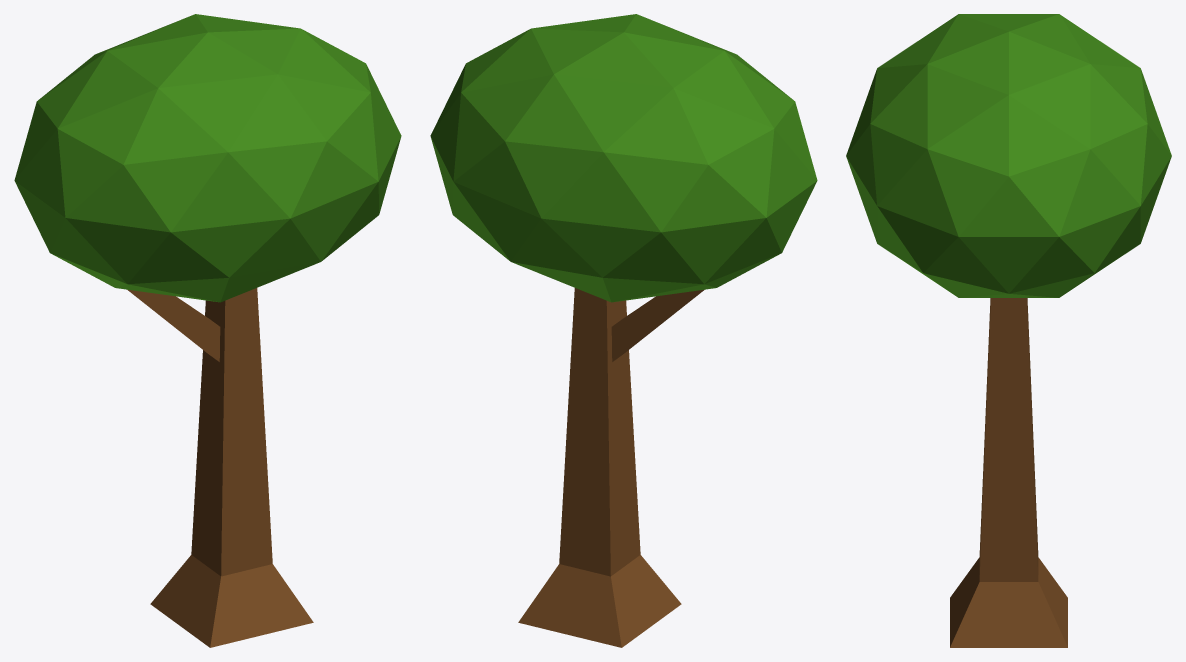
Rendered from tree.fbx.
The picture shows the model from 3 angles, left to right: view 1: azimuth 30°, elevation 25°; view 2: azimuth 150°, elevation 25°; view 3: azimuth 270°, elevation 25°; orthographic projection.
Visible parts, largest first — view 1: Icosphere; view 2: Icosphere; view 3: Icosphere.
Boxes of the visible parts, box(x1,y1,x2,y2) form: Icosphere: box(14, 14, 401, 647); Icosphere: box(430, 14, 817, 647); Icosphere: box(846, 14, 1171, 647).
Size of the model in its own units: 1301 by 2171 by 1106.
